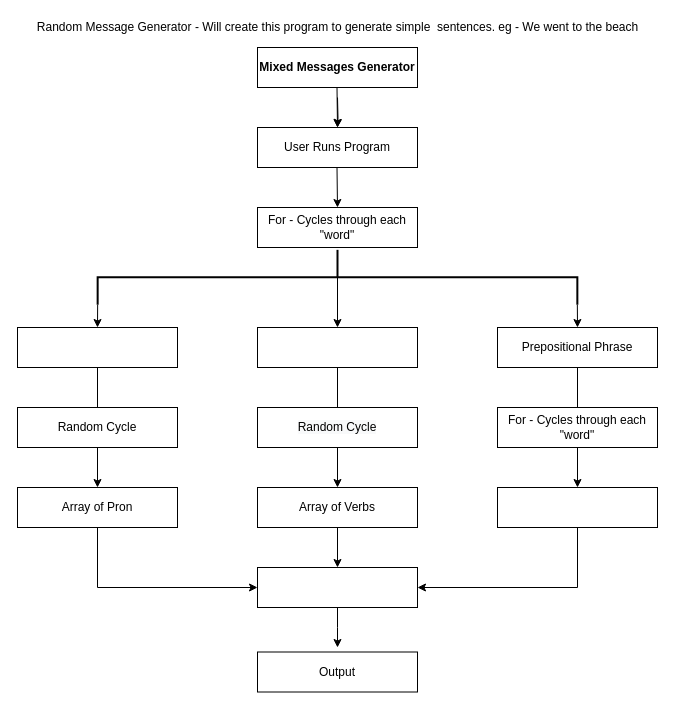
This 675x709 diagram has some shape labels left out. Here are the shapes that lost their labels. From the top down, the centre of each, then its label:
At point (97, 347): "Pronouns - We/I/You - Subject".
At point (337, 347): "Verb - Kicked/Went - Action".
At point (577, 507): "Array of Prepo Phrase".
At point (337, 587): "Sum of Strings - Concatenate Strings".
